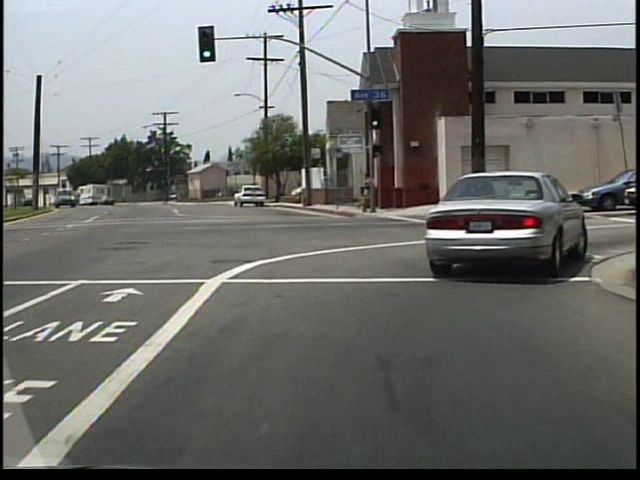person: (357, 171, 373, 213)
